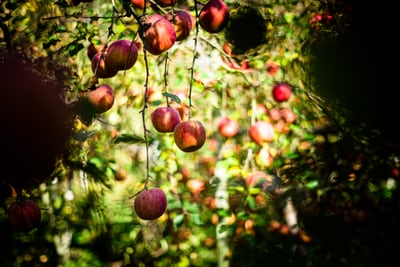apple: (137, 11, 178, 55), (6, 198, 42, 235), (195, 1, 232, 35), (132, 187, 166, 221), (81, 84, 115, 117), (164, 5, 192, 44), (174, 120, 206, 154), (106, 41, 139, 70), (91, 49, 119, 80), (271, 82, 293, 104)
